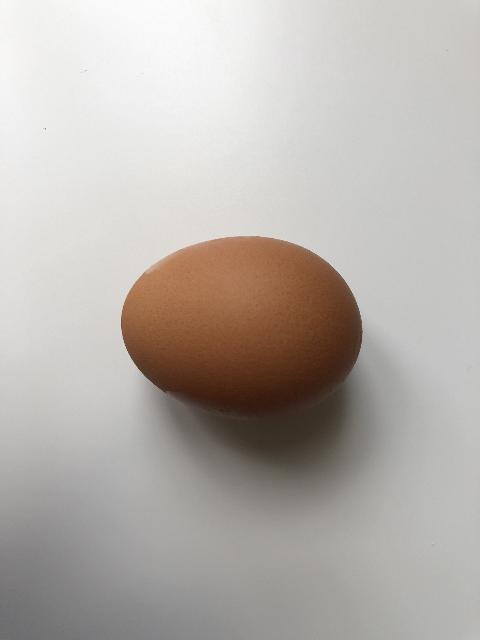Sano: (120, 234, 364, 422)
